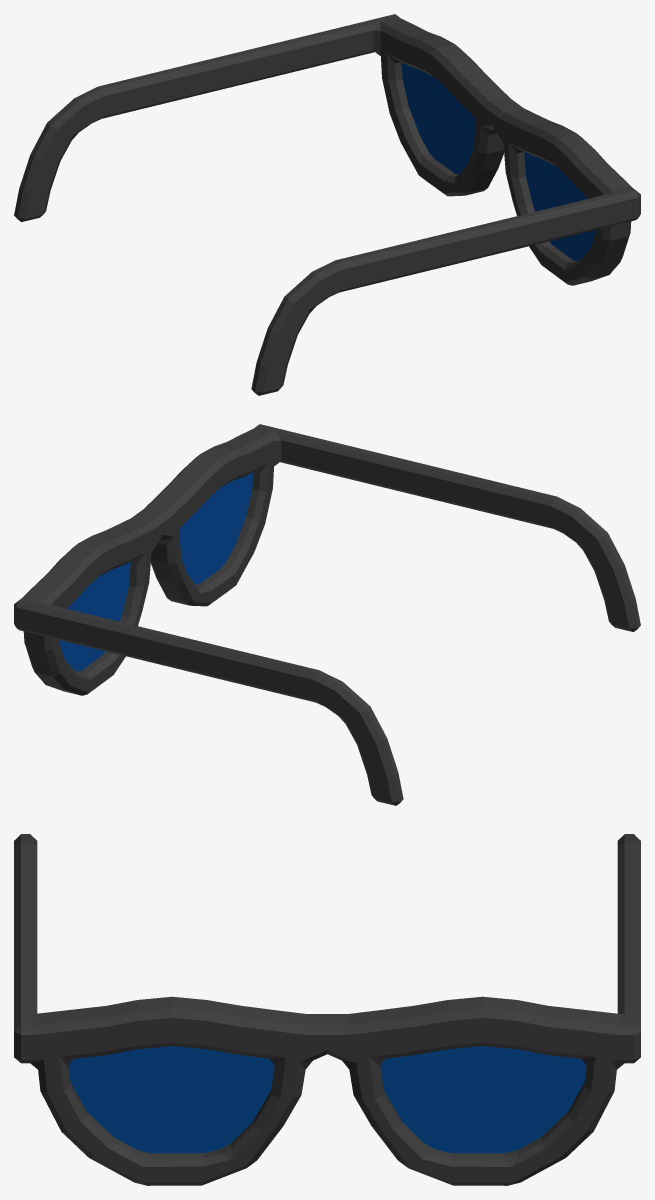
File: bril.fbx
3 views of the same model, one above another, from view 1: azimuth 30°, elevation 25°; view 2: azimuth 150°, elevation 25°; view 3: azimuth 270°, elevation 25° (orthographic). The views are drawn at different scales.
Visible parts, largest first — view 1: bril; view 2: bril; view 3: bril.
Part boxes in pixels (bbox=[...]): bril: bbox=[14, 14, 640, 395]; bril: bbox=[14, 424, 640, 805]; bril: bbox=[14, 834, 640, 1185].
Size of the model in its own units: 2723 by 941 by 3012.
